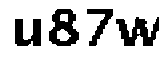7: (84, 8, 114, 51)
8: (46, 6, 80, 48)
u: (10, 16, 43, 52)
w: (115, 16, 160, 50)
